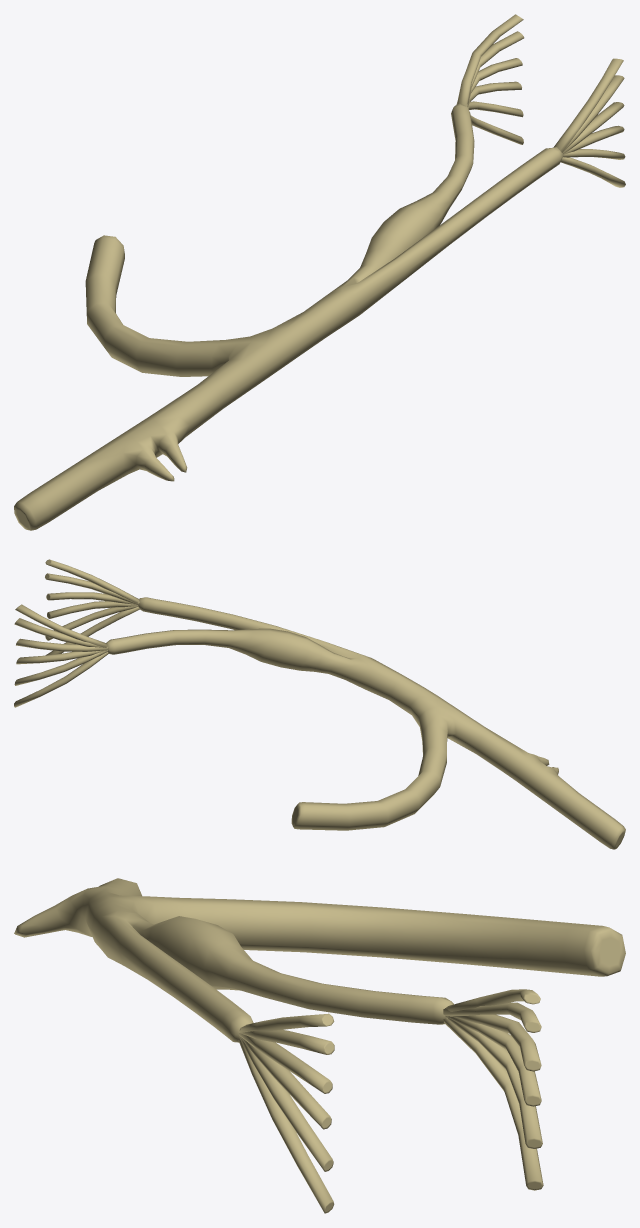
Rendered from Nerves_L11.FBX.
3 renders of one model, top to bottom at view 1: azimuth 30°, elevation 25°; view 2: azimuth 150°, elevation 25°; view 3: azimuth 270°, elevation 25°, orthographic. The views are drawn at different scales.
Visible parts, largest first — view 1: Nerves_L11; view 2: Nerves_L11; view 3: Nerves_L11.
Boxes of the visible parts, x1,y1,x2,y2 form: Nerves_L11: (14,14,625,530); Nerves_L11: (14,559,625,849); Nerves_L11: (14,878,625,1213).
Size of the model in its own units: 0.0326 by 0.012 by 0.0172.
